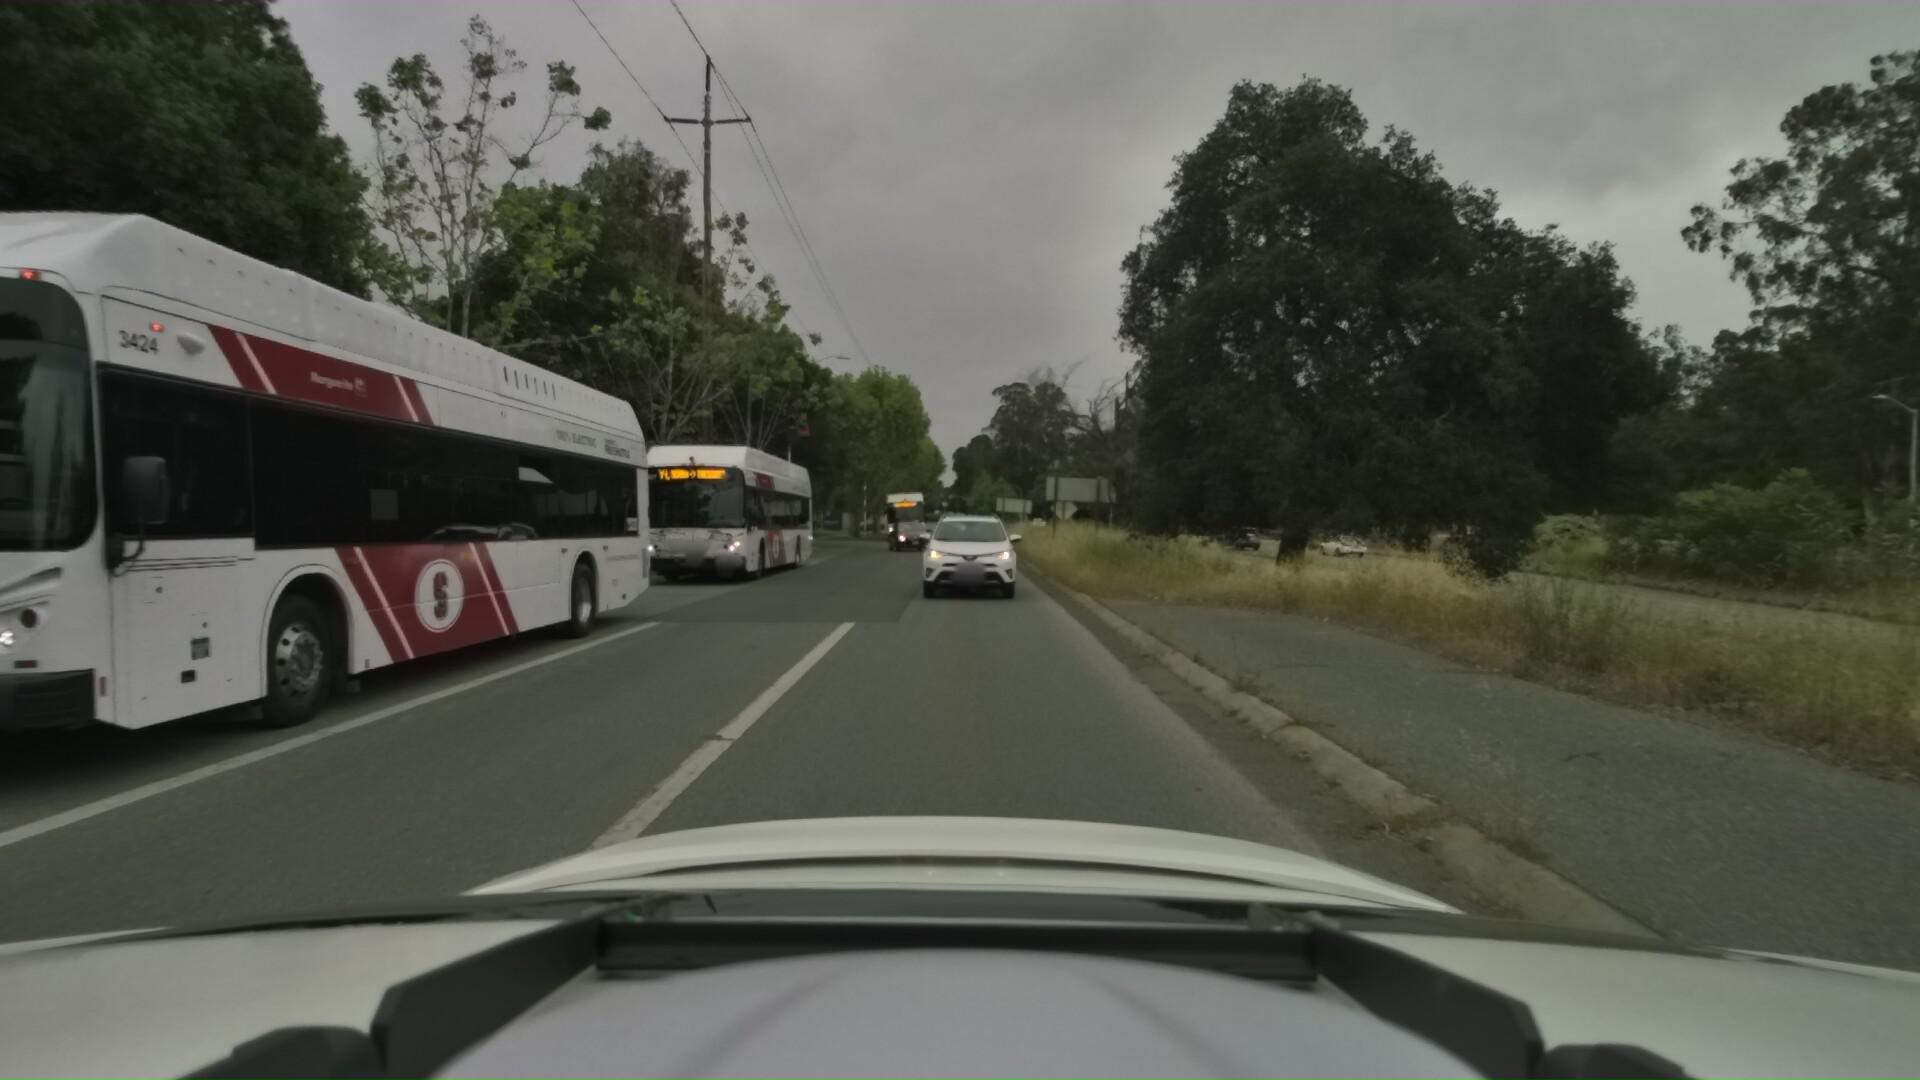bus: (618, 434, 832, 589), (885, 487, 930, 543)
car: (907, 504, 1026, 605), (1312, 518, 1371, 549), (884, 520, 934, 555), (1215, 517, 1266, 546)
